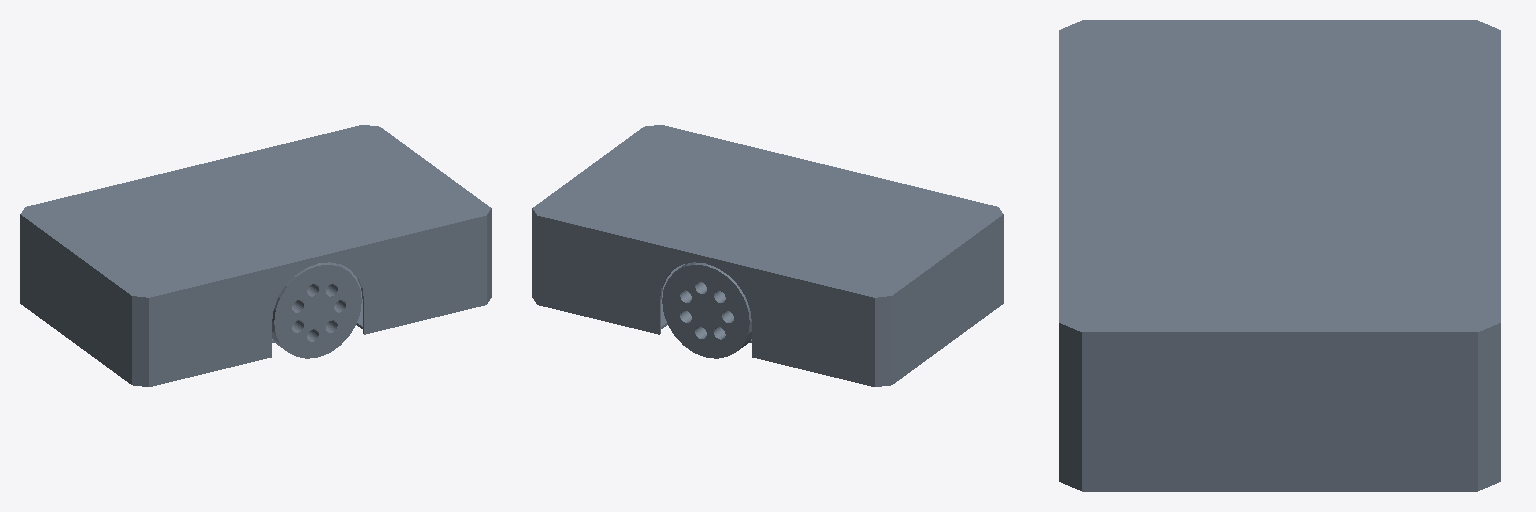
URDF robot description (rover_description):
<robot
  name="rover_description">

  <link
    name="base_link">
    <visual>
       <origin
        xyz="0 0 0"
        rpy="0 0 0" />
      <geometry>
        <mesh
          filename="package://agv_description/meshes/agv1000.stl" scale="1 1 1" />
      </geometry>
      <material
        name="">
        <color
          rgba="0.508039215686275 0.5517647058823529 0.6029411764705882 1" />
      </material>
      <origin
        xyz="0 0 0"
        rpy="0 0 0" />
    </visual>
  </link>


</robot>

--- What the picture shows (computed from the rendered views, not written in the file) ---
3 views of the same robot in one strip: view 1: azimuth 30°, elevation 25°; view 2: azimuth 150°, elevation 25°; view 3: azimuth 270°, elevation 25° (orthographic).
Model rover_description with 1 links and 0 joints (none), rooted at base_link, posed every joint at zero.
Links seen in each view (by area): view 1: base_link; view 2: base_link; view 3: base_link.
Link boxes in pixels (x1,y1,x2,y2): base_link: (20, 125, 491, 386); base_link: (532, 125, 1003, 386); base_link: (1059, 20, 1500, 491).
Bounding box of the posed robot: 820 × 490 × 220 m (x, y, z).
Meshes: 1 distinct files referenced, 1 mesh visuals loaded (1 ASCII STL).